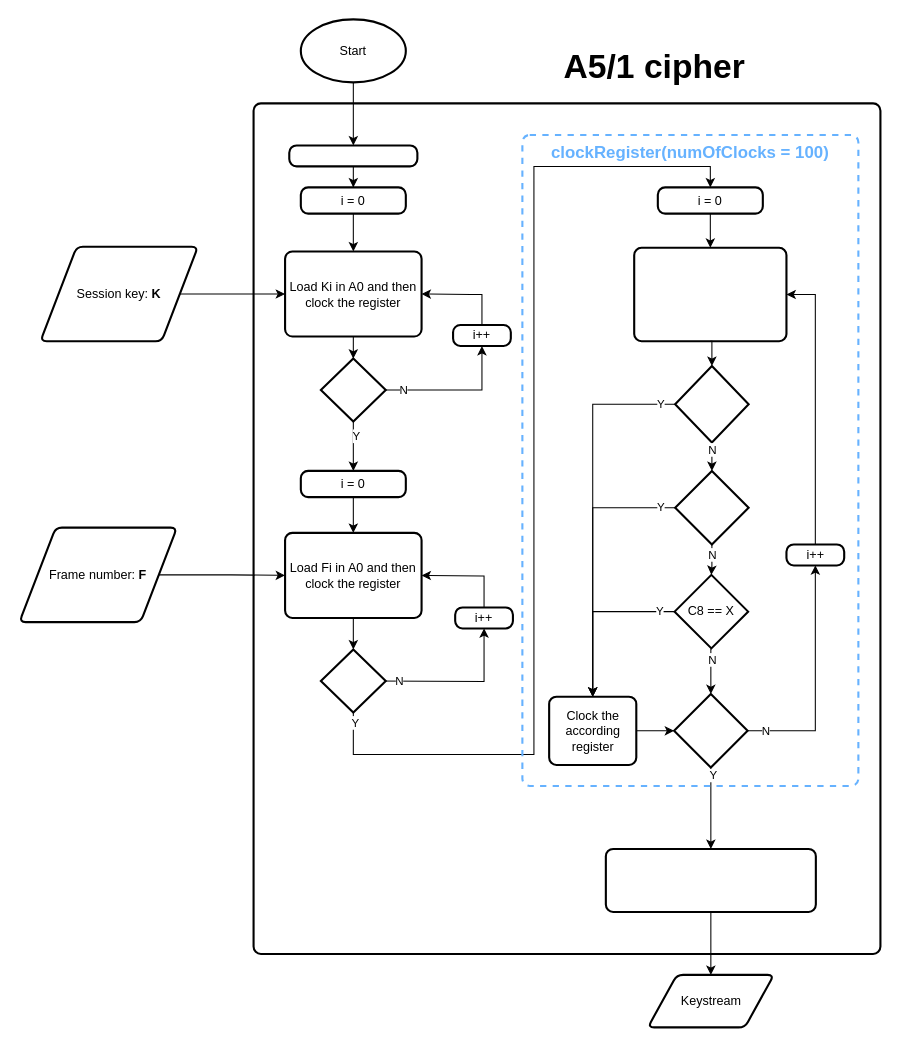
Some shapes in this 899 by 1046 pixel diagram are drawn without their labels. The shapes that lost their labels are listed below. From the top down, each one's centre as x and y in pixels, then its label:
At (x=353, y=155): "Reset the registers".
At (x=710, y=294): "X = Majority(A8,B10,C10)".
At (x=352, y=389): "i <= 64".
At (x=711, y=403): "A8 == X".
At (x=711, y=507): "B8 == X".
At (x=352, y=680): "i <= 22".
At (x=710, y=730): "i <= 100".
At (x=710, y=879): "clockRegister(numOfClocks = 114) a nd save the result in keystream".
